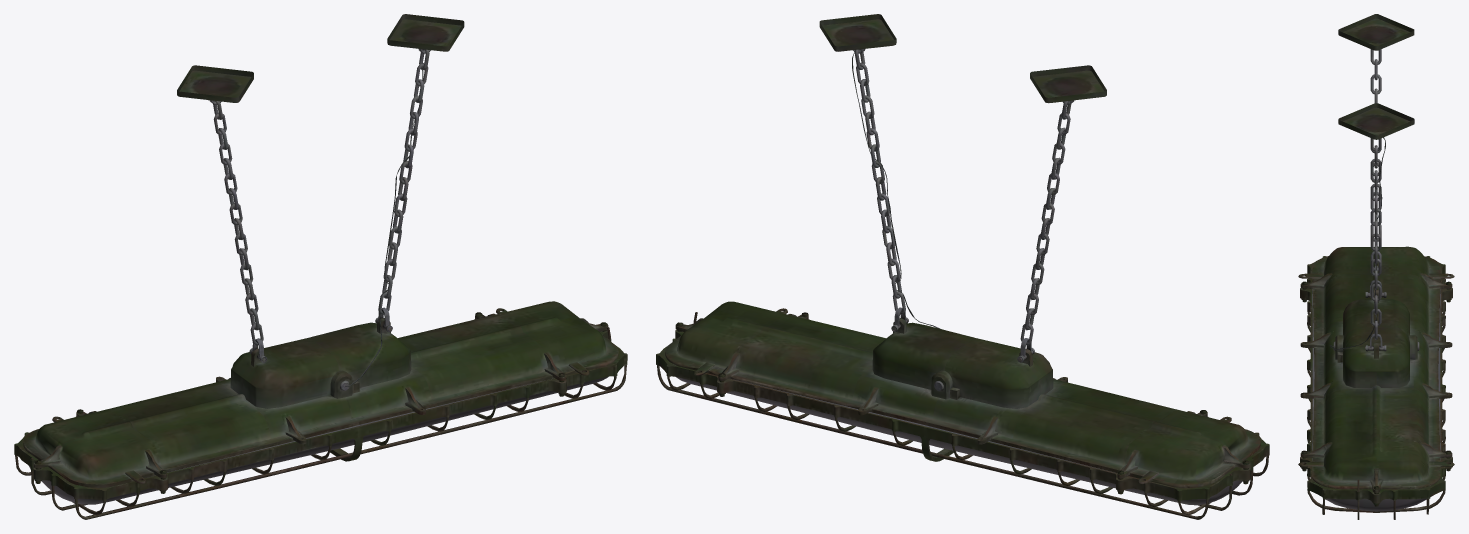
Rendered from caged_hanging_light.glb.
3 renders of one model, left to right at view 1: azimuth 30°, elevation 25°; view 2: azimuth 150°, elevation 25°; view 3: azimuth 270°, elevation 25°, orthographic. The views are drawn at different scales.
Parts seen in each view (by area): view 1: caged_hanging_light; view 2: caged_hanging_light; view 3: caged_hanging_light.
Boxes of the visible parts, x1,y1,x2,y2 form: caged_hanging_light: (14,14,627,519); caged_hanging_light: (656,14,1269,519); caged_hanging_light: (1298,14,1454,519).
Bounding box in the file's own units: 1.16 × 0.7501 × 0.3149.
1 material, 1 textured.
